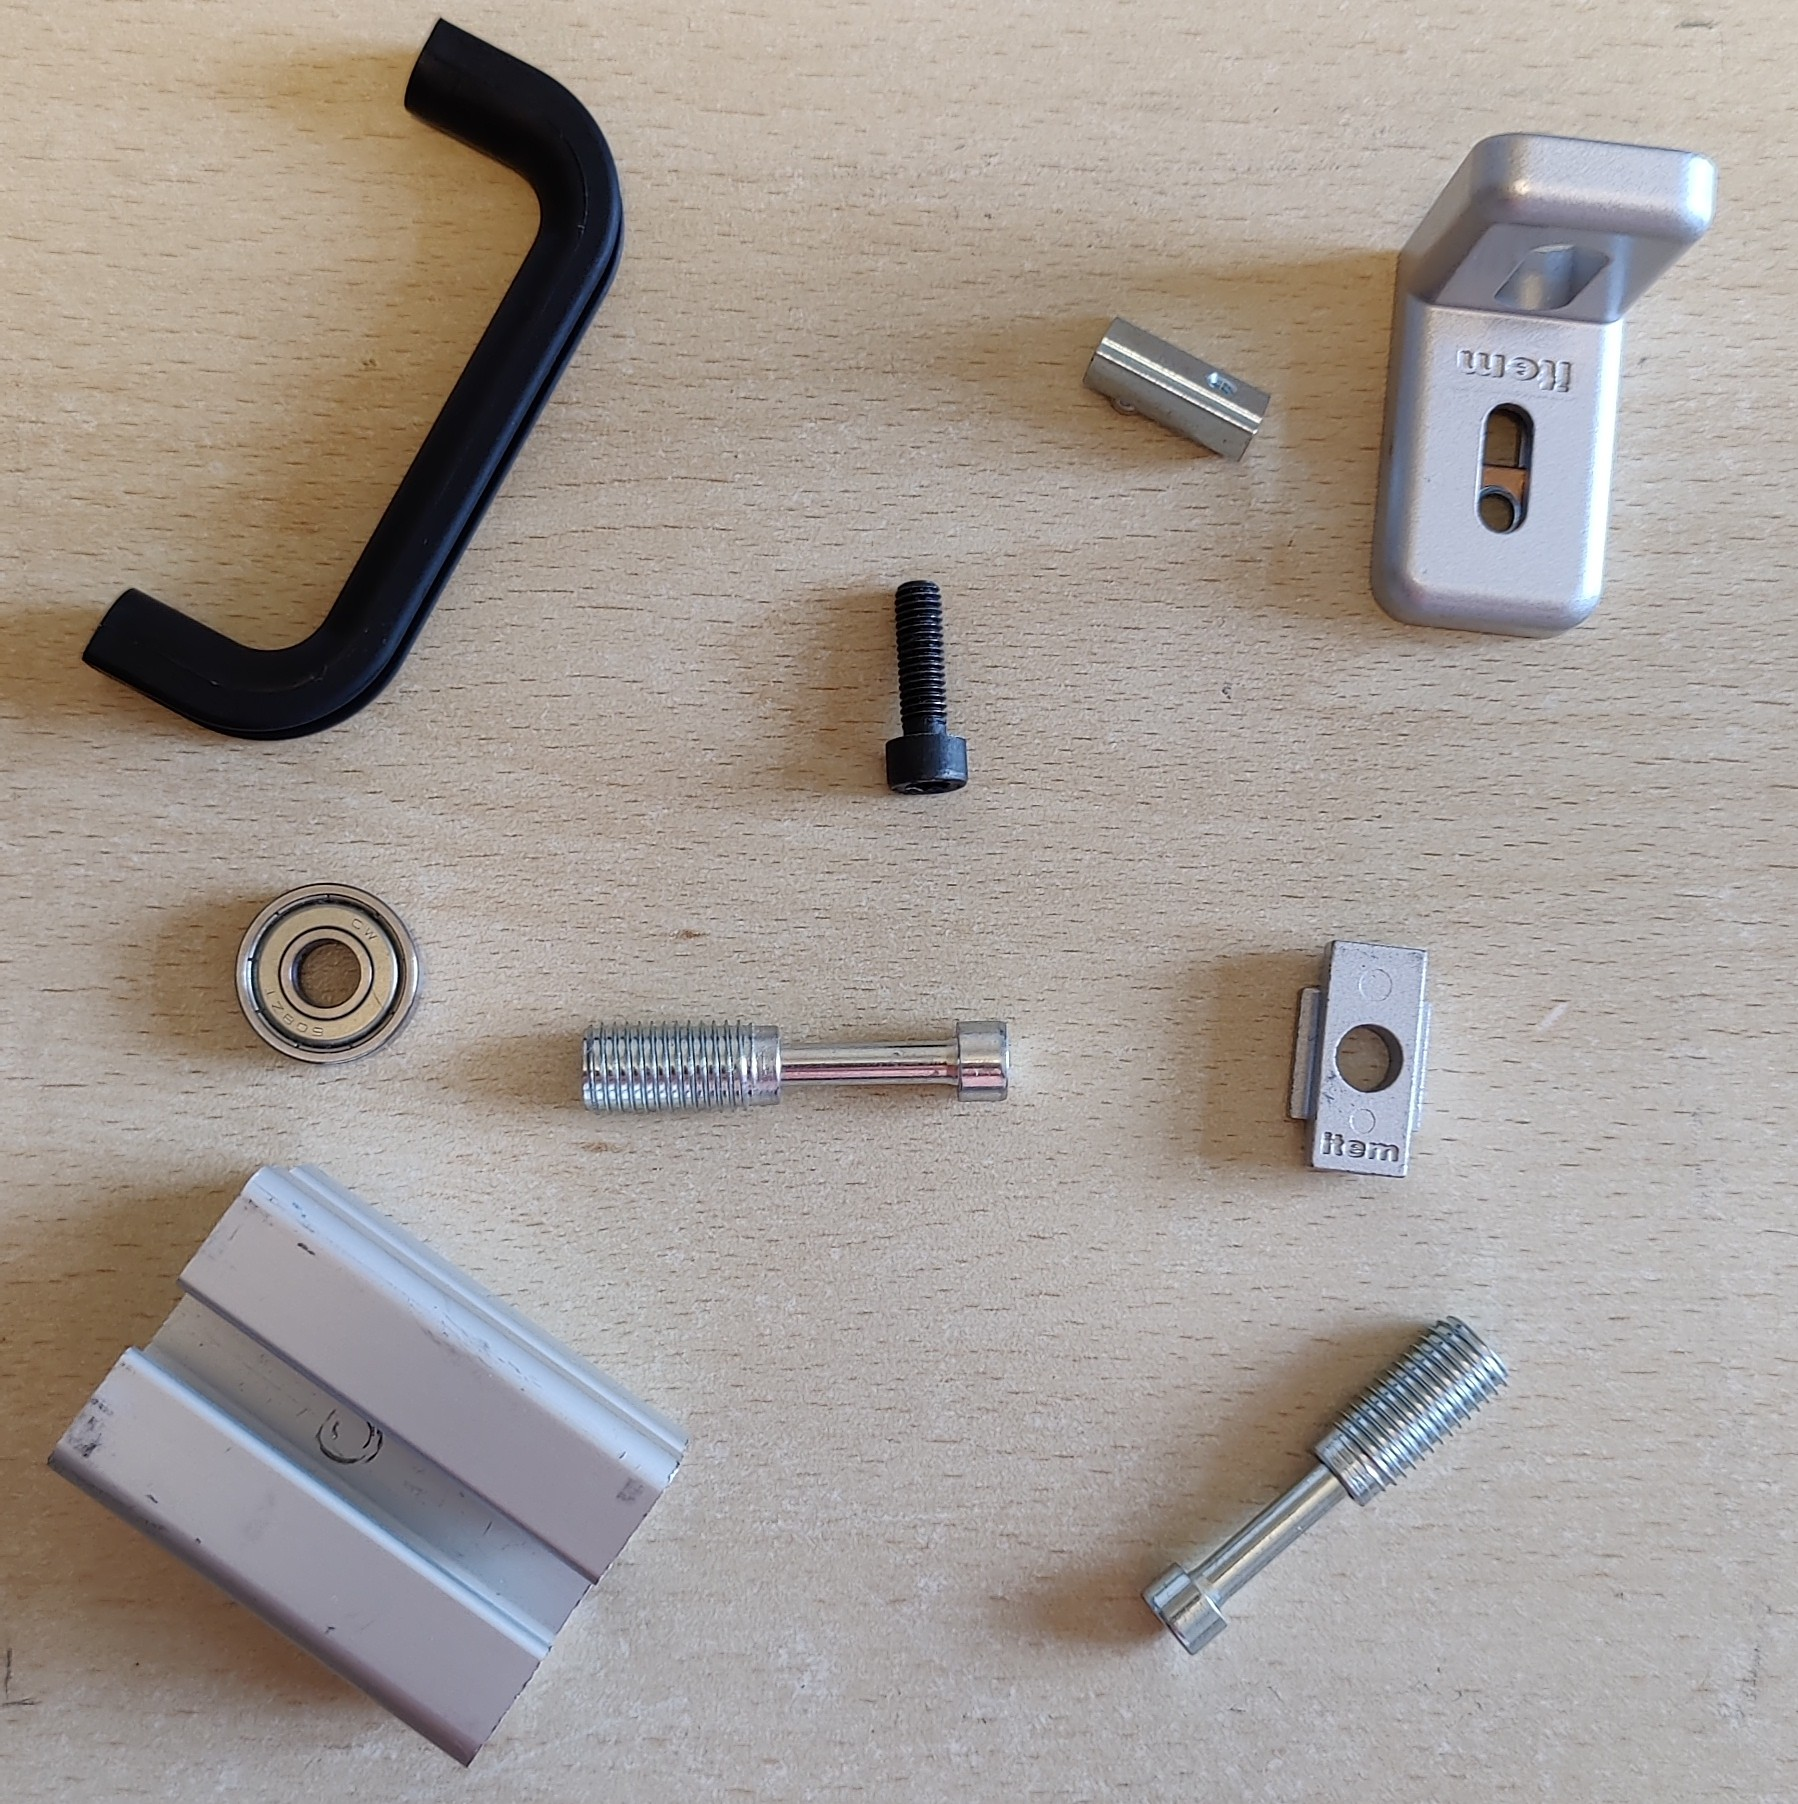Aluminium Extension: (48, 1162, 693, 1769)
Ball Bearing: (234, 879, 422, 1067)
Multiwinkel: (1367, 130, 1716, 640)
Pull Handle: (77, 12, 627, 744)
Shoulder Socket Head Cap Screw: (1138, 1310, 1512, 1659), (578, 1016, 1014, 1119)
Socket Head Cap Screw: (884, 579, 971, 800)
T Nut Square: (1284, 938, 1432, 1179)
T Spring Nut: (1080, 314, 1273, 466)
